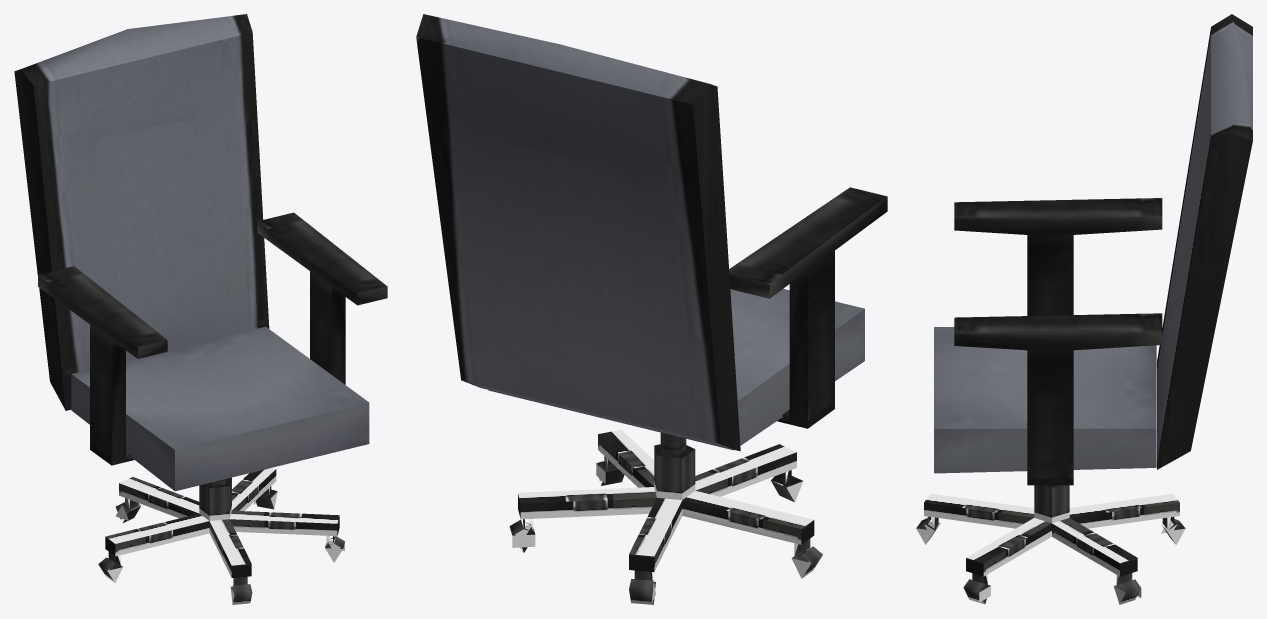
Rendered from Office Chair_lod3.fbx.
3 views of the same model, side by side, from view 1: azimuth 30°, elevation 25°; view 2: azimuth 150°, elevation 25°; view 3: azimuth 270°, elevation 25° (orthographic). The views are drawn at different scales.
Parts seen in each view (by area): view 1: Chair_Back, Chair_Seat, Chair_Arm_Rest, Chair_Stand, Wheel5; view 2: Chair_Back, Chair_Stand, Chair_Arm_Rest, Chair_Seat, Wheel1, Wheel4, Wheel2, Wheel5; view 3: Chair_Arm_Rest, Chair_Back, Chair_Seat, Chair_Stand, Wheel2, Wheel3.
Part boxes in pixels (x1,y1,x2,y2): Chair_Back: [14, 14, 269, 410]; Chair_Seat: [71, 326, 369, 491]; Chair_Arm_Rest: [38, 212, 387, 465]; Chair_Stand: [105, 468, 339, 577]; Wheel5: [230, 576, 252, 604]; Chair_Back: [416, 14, 740, 451]; Chair_Stand: [518, 430, 814, 572]; Chair_Arm_Rest: [729, 187, 887, 428]; Chair_Seat: [488, 288, 864, 450]; Wheel1: [629, 570, 655, 604]; Wheel4: [791, 538, 822, 578]; Wheel2: [509, 519, 535, 552]; Wheel5: [771, 470, 803, 502]; Chair_Arm_Rest: [954, 198, 1162, 485]; Chair_Back: [1157, 14, 1252, 469]; Chair_Seat: [934, 327, 1156, 473]; Chair_Stand: [924, 485, 1179, 576]; Wheel2: [1113, 573, 1141, 604]; Wheel3: [963, 573, 990, 604].
Bounding box in the file's own units: 2.06 × 3.53 × 2.18.
